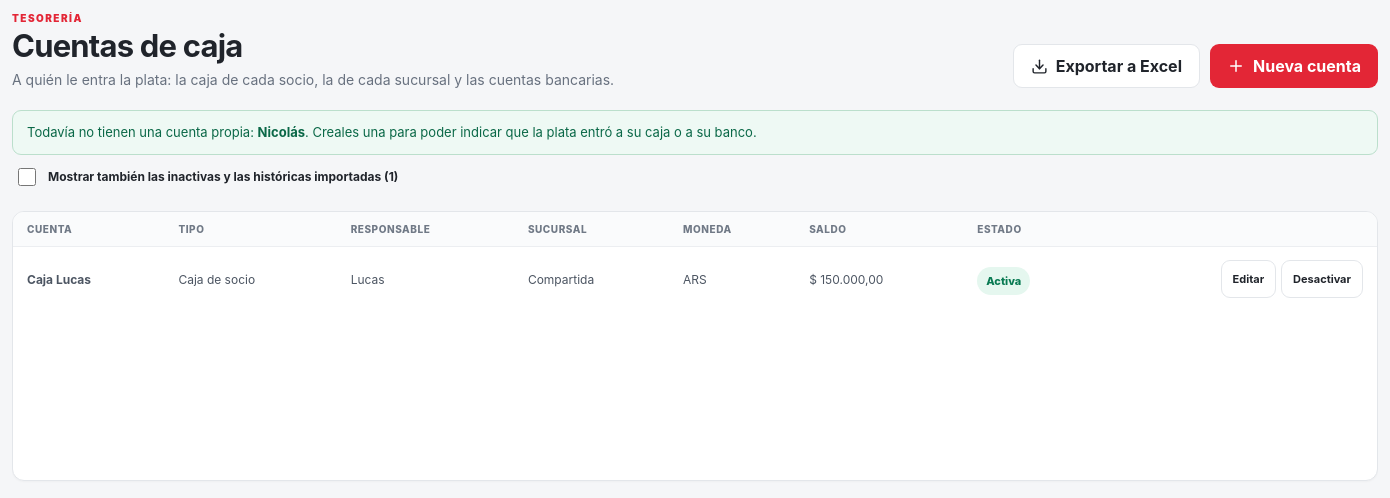
Test: Cuentas de caja › lista las cuentas propias y oculta las históricas hasta pedirlas
The image size is (1390, 498).
Expected: the text "Caja Lucas" is shown, [27, 272, 91, 287]
Expected: the text "Compartida" is shown, [514, 246, 669, 311]
Click the checkbox. click: click(27, 177)
box: [18, 168, 36, 186]
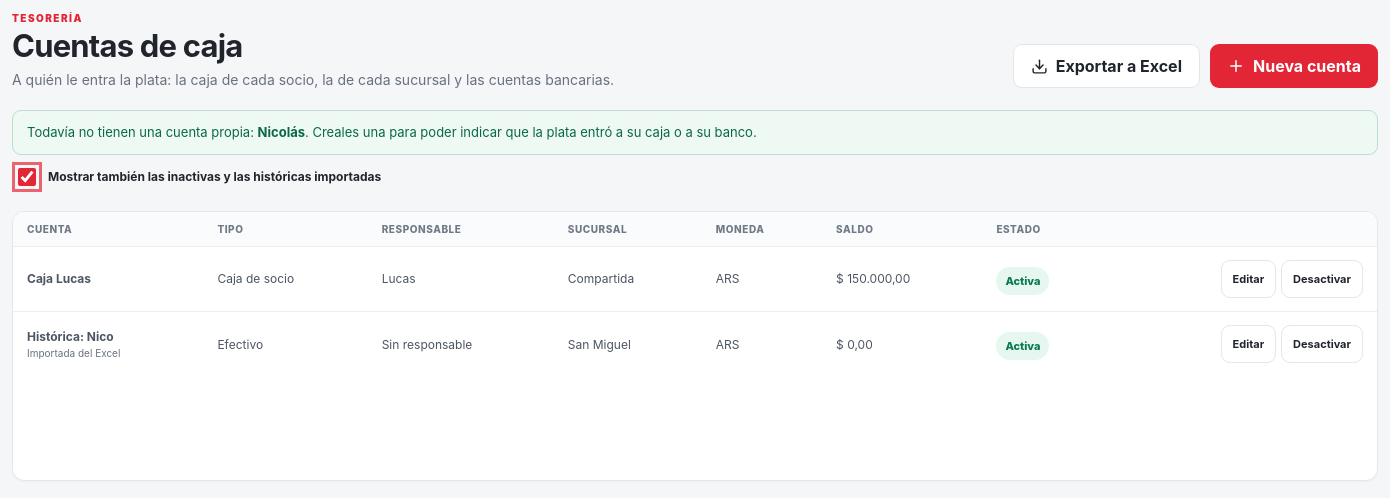
Result: the text "Histórica: Nico" is shown at [27, 329, 114, 344]
